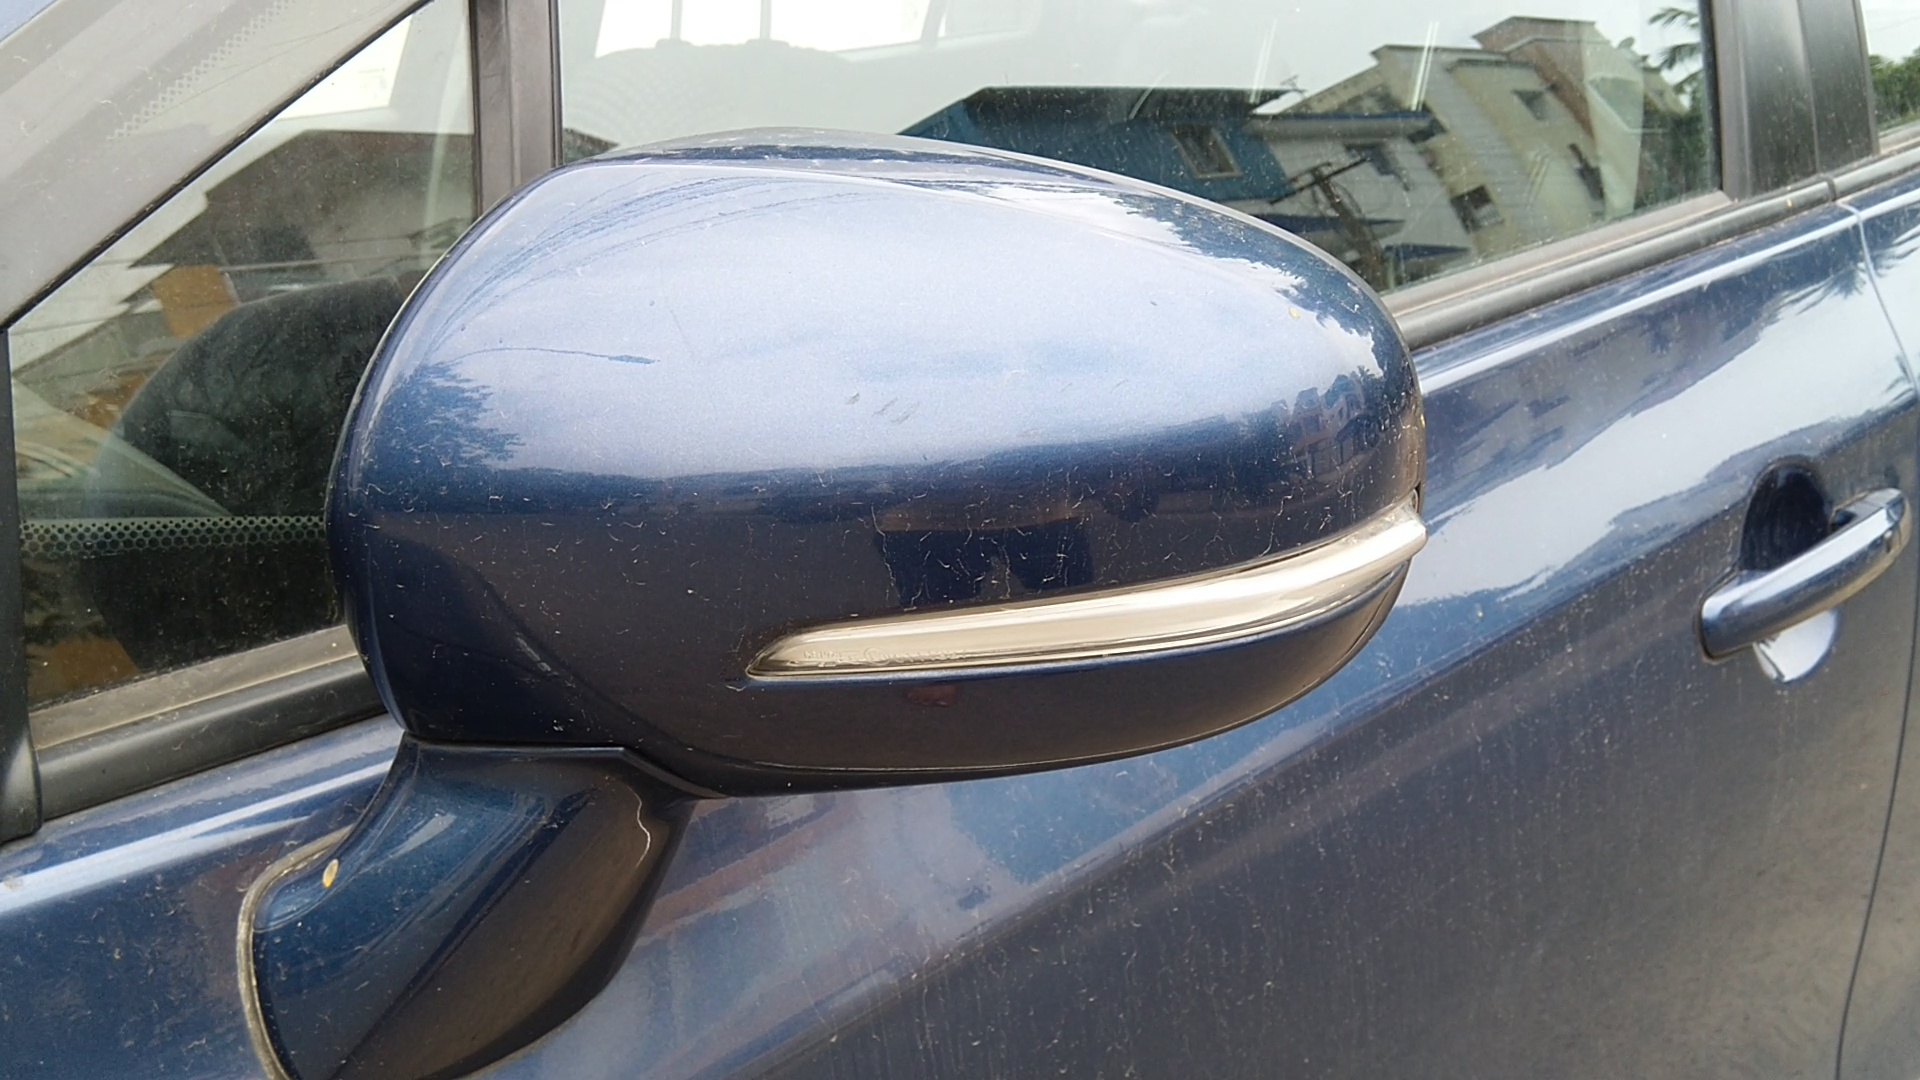ovr_mirror: (185, 57, 1469, 1080)
